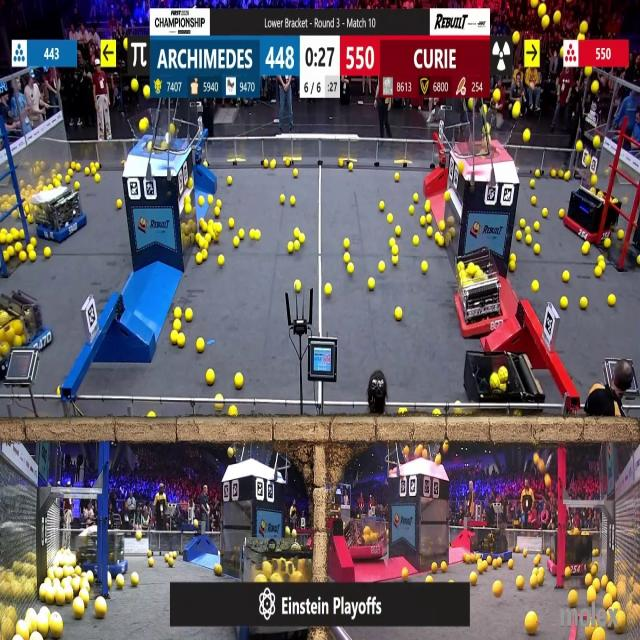ball_airborne: (514, 103, 522, 118), (592, 82, 599, 96), (523, 130, 531, 142), (140, 118, 148, 130), (554, 10, 562, 22), (537, 461, 545, 473), (594, 136, 601, 148), (493, 91, 500, 103), (132, 79, 139, 91), (543, 476, 550, 488), (143, 87, 150, 99), (541, 15, 548, 27), (514, 32, 521, 44), (443, 443, 450, 455), (416, 447, 423, 459), (538, 4, 545, 15), (579, 23, 586, 34), (576, 140, 582, 151), (227, 448, 233, 459), (468, 98, 473, 111), (170, 126, 176, 136), (592, 175, 598, 185), (435, 455, 441, 465), (534, 454, 540, 464), (586, 66, 592, 76), (147, 142, 153, 151), (586, 157, 592, 166), (403, 446, 408, 456), (484, 105, 489, 114), (578, 34, 584, 41), (560, 47, 564, 56)
ball_ground: (526, 614, 538, 636), (52, 617, 64, 639), (616, 614, 627, 634), (96, 599, 107, 618), (74, 600, 85, 619), (38, 622, 49, 639), (568, 592, 577, 608), (56, 592, 66, 606), (206, 371, 215, 385), (493, 583, 502, 597), (236, 374, 244, 389), (594, 630, 606, 640), (588, 589, 596, 604), (132, 572, 140, 586), (80, 592, 89, 604), (184, 309, 192, 322), (603, 596, 611, 609), (198, 339, 205, 353), (116, 574, 123, 588), (560, 296, 568, 308), (174, 308, 182, 320), (178, 335, 185, 348), (395, 308, 402, 321), (583, 242, 590, 255), (174, 319, 182, 330), (214, 564, 222, 575), (479, 562, 487, 573), (367, 278, 374, 290), (293, 280, 300, 292), (421, 263, 428, 275), (469, 572, 476, 584), (579, 296, 586, 308), (517, 576, 524, 588), (586, 573, 593, 585), (536, 572, 543, 584), (562, 272, 570, 282), (230, 408, 238, 418), (40, 589, 46, 602), (18, 251, 25, 262), (29, 251, 36, 262), (324, 284, 331, 295), (530, 575, 537, 586), (7, 233, 14, 244), (14, 337, 21, 348), (608, 294, 614, 306), (172, 333, 178, 345), (532, 280, 538, 292), (293, 228, 299, 240), (0, 232, 6, 244), (401, 568, 408, 578), (595, 268, 602, 278), (115, 200, 122, 210), (413, 236, 420, 246), (510, 263, 517, 273), (534, 244, 540, 255), (44, 247, 50, 258), (427, 228, 433, 239), (298, 233, 304, 244), (4, 252, 10, 263), (288, 242, 294, 253), (439, 237, 445, 248), (89, 571, 95, 582), (202, 220, 208, 231), (14, 243, 21, 252), (464, 554, 471, 563), (200, 240, 207, 249), (218, 255, 224, 265), (380, 263, 386, 273), (348, 265, 354, 275), (395, 225, 401, 235), (195, 253, 201, 263), (604, 239, 610, 249), (442, 562, 448, 572), (426, 214, 432, 224), (18, 231, 24, 241), (541, 208, 547, 218), (250, 231, 256, 241), (227, 218, 233, 228), (425, 201, 430, 213), (215, 222, 221, 232), (431, 563, 437, 573), (108, 575, 113, 587), (293, 242, 299, 252), (7, 246, 13, 256), (448, 216, 454, 226), (187, 178, 193, 188), (76, 566, 82, 576), (215, 393, 222, 401), (215, 402, 222, 410), (388, 239, 395, 247), (270, 162, 277, 170), (380, 202, 386, 211), (507, 560, 513, 569), (235, 238, 241, 247), (226, 176, 232, 185), (517, 232, 523, 241), (619, 232, 625, 241), (394, 173, 400, 182), (214, 208, 220, 217), (95, 174, 101, 183), (445, 191, 451, 200), (526, 236, 532, 245), (564, 568, 570, 577), (564, 172, 570, 181), (413, 192, 419, 201), (292, 169, 298, 178), (208, 197, 214, 206), (339, 160, 345, 169), (206, 234, 212, 243), (558, 171, 564, 180), (345, 252, 350, 262), (345, 240, 350, 250), (421, 216, 426, 226), (280, 193, 285, 203), (441, 220, 446, 230), (200, 197, 205, 207), (203, 250, 208, 260), (599, 255, 604, 265), (426, 575, 433, 582), (525, 225, 532, 232), (559, 210, 565, 218), (531, 198, 537, 206), (392, 247, 398, 255), (84, 168, 90, 176), (520, 219, 526, 227), (348, 164, 354, 172), (28, 215, 34, 223), (165, 555, 171, 563), (492, 560, 498, 568), (532, 567, 538, 575), (388, 214, 393, 223), (410, 206, 415, 215), (392, 255, 397, 264), (148, 558, 153, 567), (240, 231, 245, 240), (534, 221, 539, 230), (31, 239, 36, 248), (195, 234, 200, 243), (76, 165, 81, 174), (291, 528, 296, 537), (68, 170, 74, 177), (511, 253, 517, 260), (284, 161, 290, 168), (92, 168, 98, 175), (148, 413, 154, 420), (290, 198, 295, 206), (530, 180, 535, 188), (75, 182, 80, 190), (185, 206, 190, 214), (216, 200, 221, 208), (552, 170, 557, 178), (137, 532, 142, 540), (534, 557, 539, 565), (433, 411, 439, 417), (66, 176, 71, 183), (535, 170, 539, 178), (170, 559, 174, 567), (265, 161, 269, 169), (96, 163, 100, 171), (636, 256, 640, 264), (205, 162, 209, 170), (524, 551, 528, 558), (148, 552, 152, 559), (546, 550, 550, 557), (516, 545, 520, 551), (450, 578, 454, 584)
goal: (461, 115, 516, 158), (126, 117, 185, 153)
robot_blue: (0, 289, 53, 348), (37, 186, 87, 244), (74, 530, 108, 572), (474, 527, 512, 564), (104, 532, 129, 574)
robot_red: (452, 262, 500, 336), (567, 179, 610, 243), (546, 531, 593, 577), (346, 518, 388, 562)
